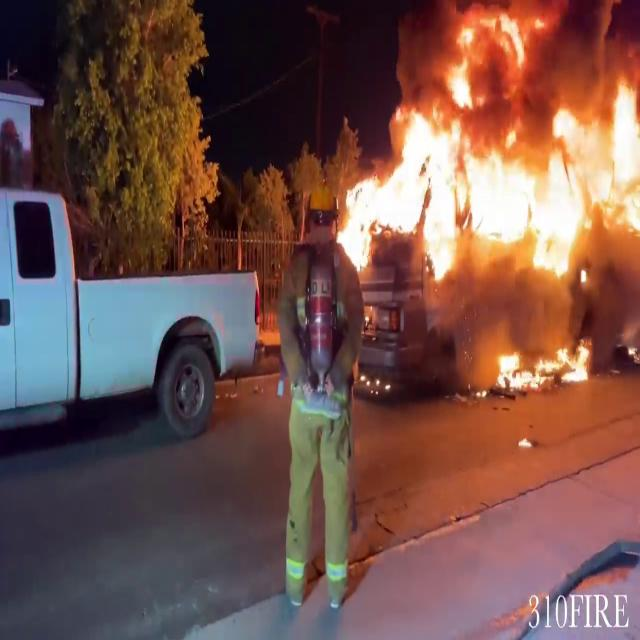Fire: (333, 3, 640, 298), (489, 334, 595, 392)
